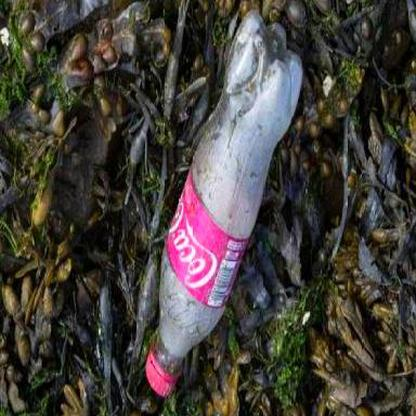plastic bottle: (145, 10, 303, 394)
